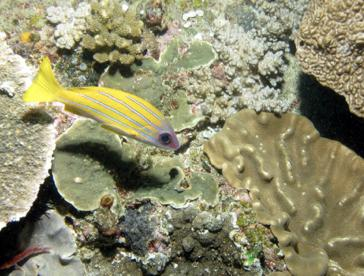Lutjanidae -Snappers-: (20, 51, 188, 159)
